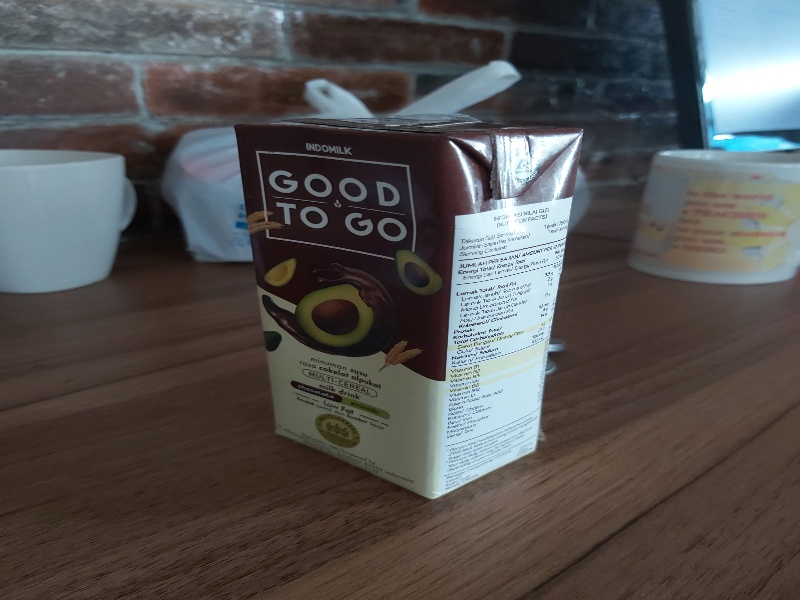cokelat: (226, 112, 585, 504)
